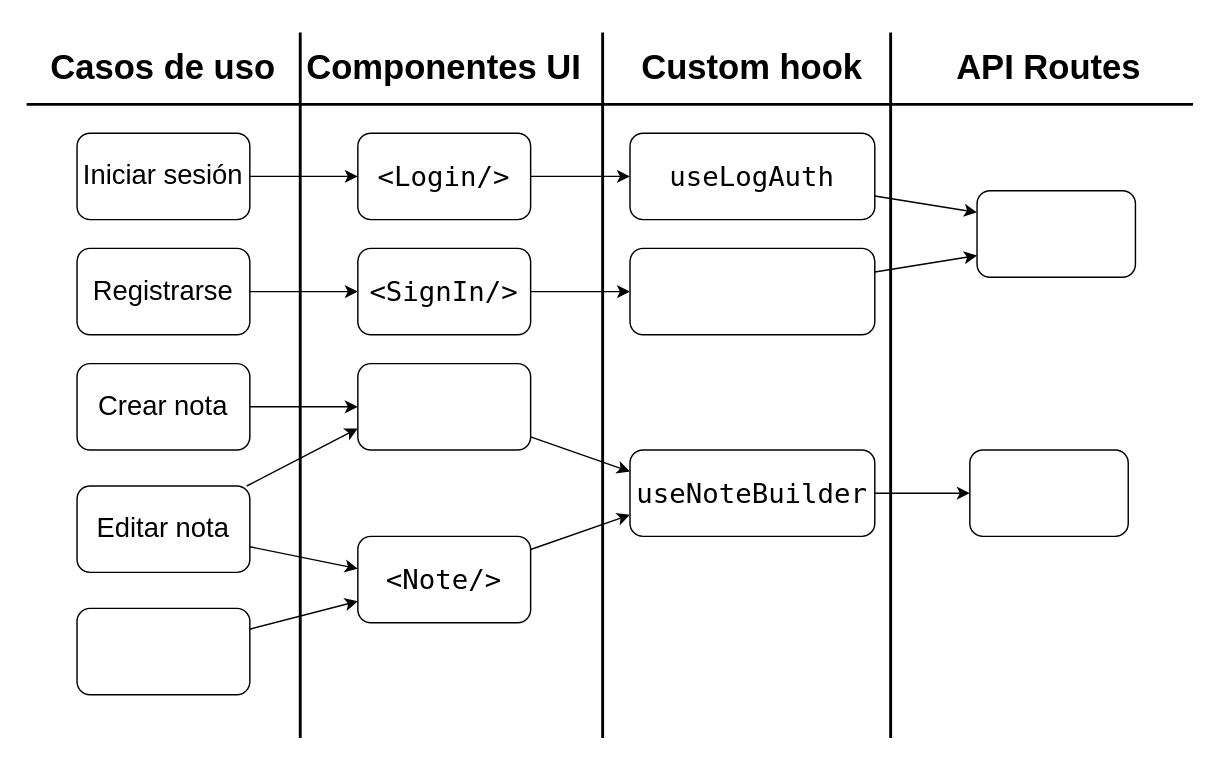
Image size: 1220x766. Some labels were removed from this diagram. The shapes that lost their labels are listed below. From the top down, each one's centre as x and y in pixels, then its label:
[1055,233]: user
[752,291]: useUserBuilder
[443,406]: <Form/>
[1048,492]: note
[163,651]: Eliminar nota
